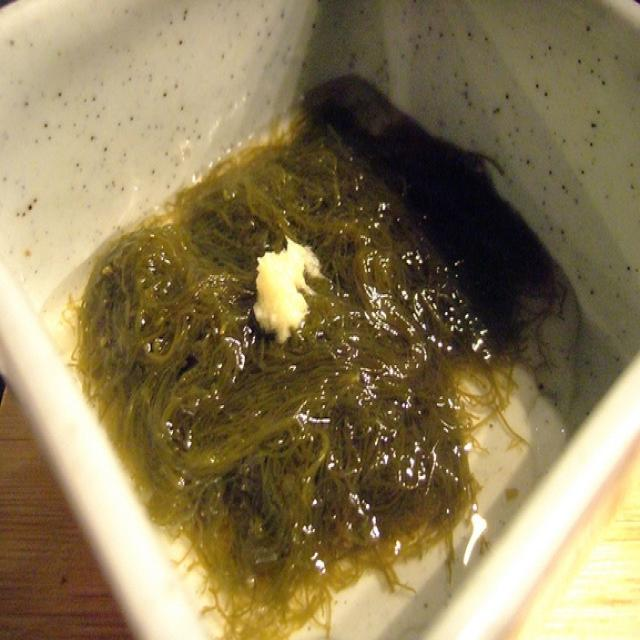蔬菜料理: (46, 63, 594, 604)
